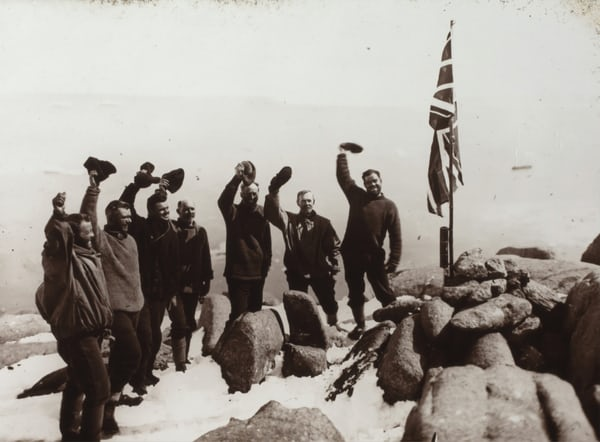Flag: (427, 102, 463, 215), (428, 26, 456, 129)
